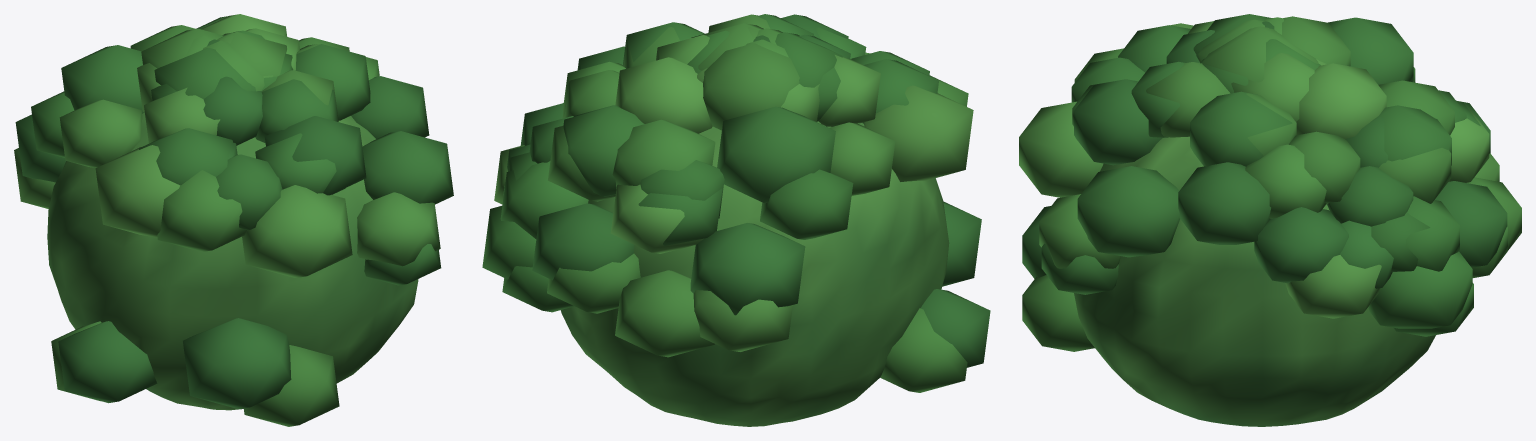
The model's file is furn_dp_hedge_round.glb.
The picture shows the model from 3 angles, left to right: view 1: azimuth 30°, elevation 25°; view 2: azimuth 150°, elevation 25°; view 3: azimuth 270°, elevation 25°; orthographic projection. The views are drawn at different scales.
Parts seen in each view (by area): view 1: furn_dp_hedge_round_main; view 2: furn_dp_hedge_round_main; view 3: furn_dp_hedge_round_main.
Boxes of the visible parts, x1,y1,x2,y2 form: furn_dp_hedge_round_main: (14, 14, 453, 426); furn_dp_hedge_round_main: (482, 14, 990, 426); furn_dp_hedge_round_main: (1019, 14, 1521, 426).
Size of the model in its own units: 0.9715 by 0.8343 by 1.01.
